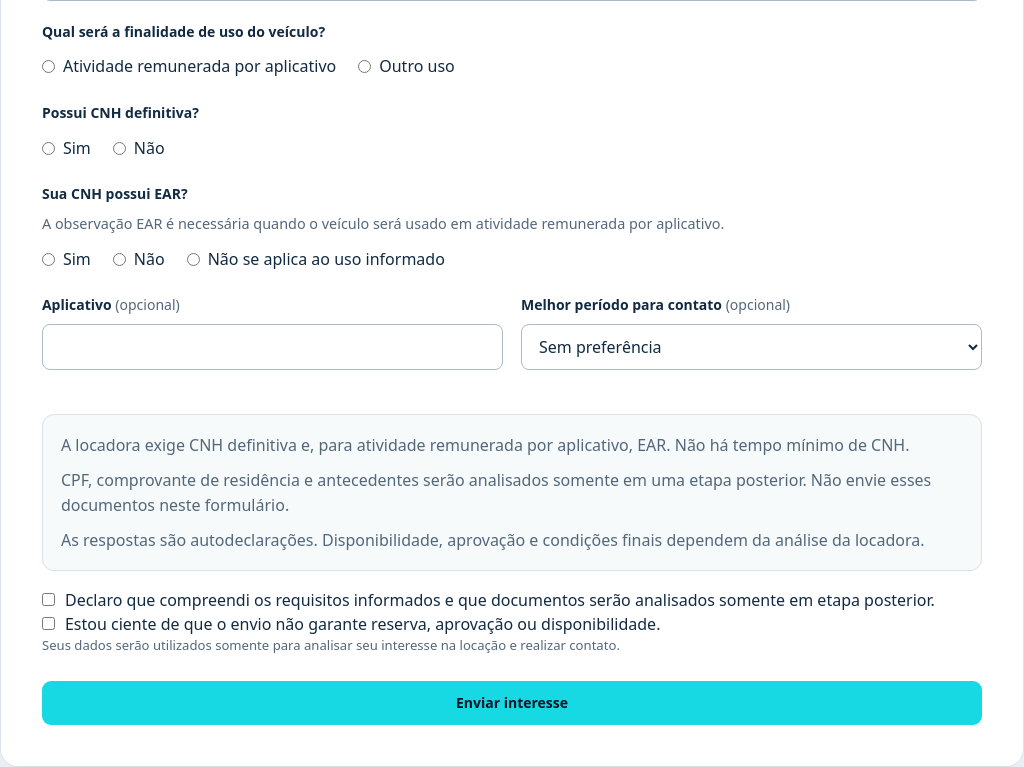
Test case: exibe continuidade somente no sucesso com URL retornada pelo servidor: {"status":"success","message":"Sucesso","whatsappUrl":"https://wa.me/5511999990000?text=M
(page scrolled)
Expected: the link "Continuar pelo WhatsApp" is not shown
Click the button "Enviar interesse".
click(512, 703)  # box [42,681,982,725]
(page scrolled)
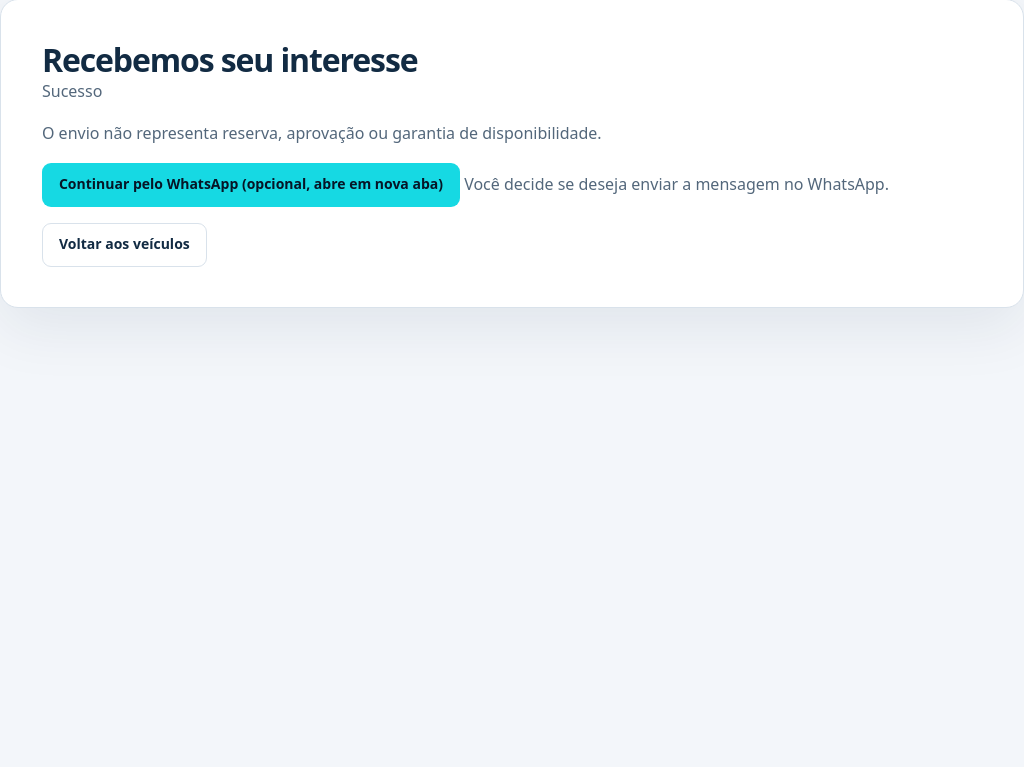
Expected: the text "Sucesso" is shown, [42,80,102,102]
Expected: the text "Você decide se deseja enviar a mensagem no WhatsApp." is shown, [460,172,889,194]
